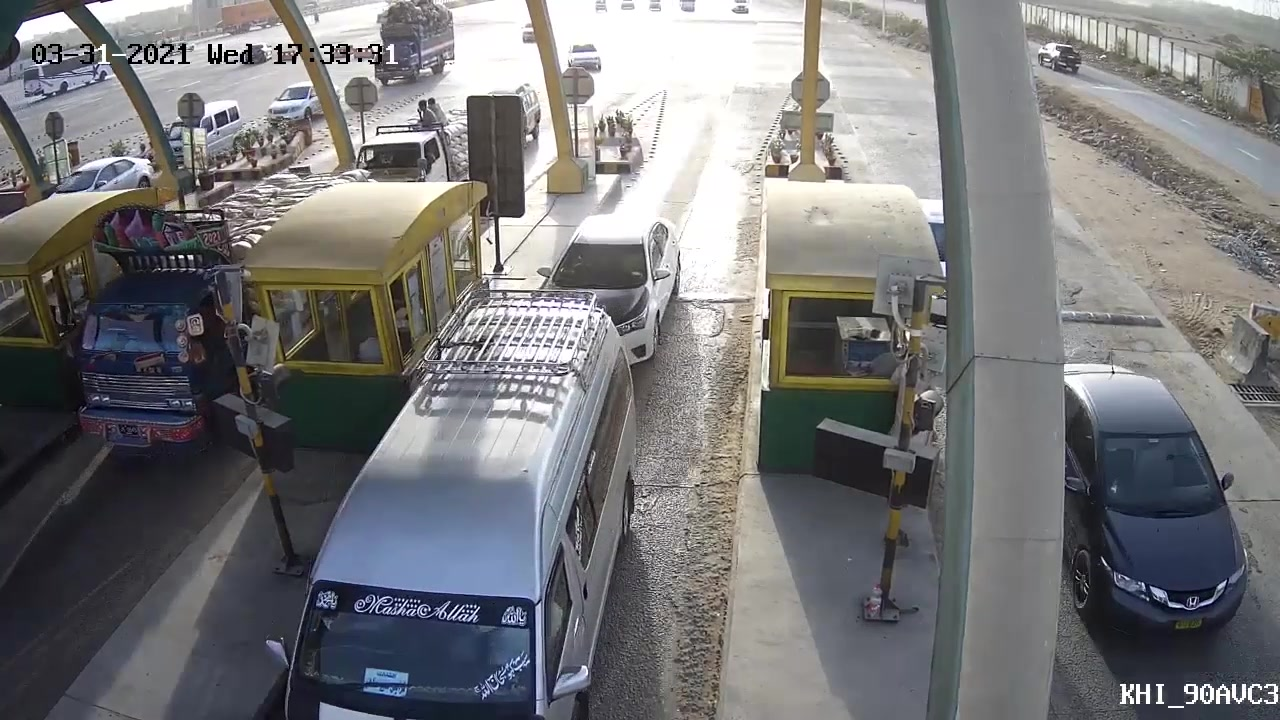F1: (559, 200, 678, 366)
